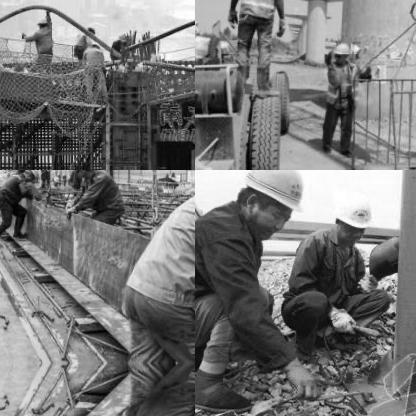Helmet: (232, 170, 310, 241), (332, 188, 372, 243), (330, 39, 352, 65), (70, 170, 93, 178), (18, 170, 38, 179), (88, 38, 102, 50), (116, 30, 128, 42), (36, 14, 46, 28), (83, 22, 97, 32)
